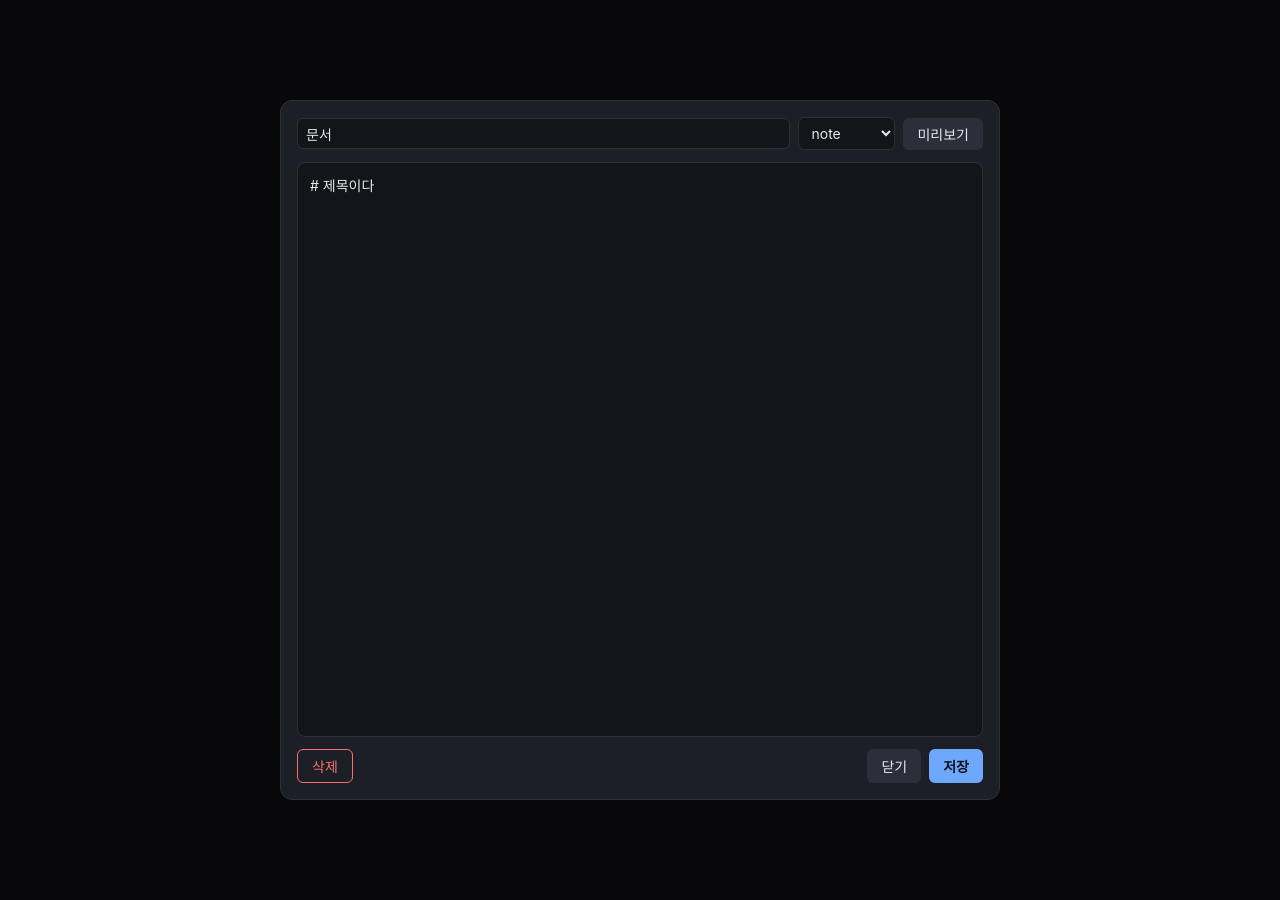
Test: 미리보기 토글은 마크다운을 렌더한다
Click the button "미리보기": (943, 134) [904,118,983,150]
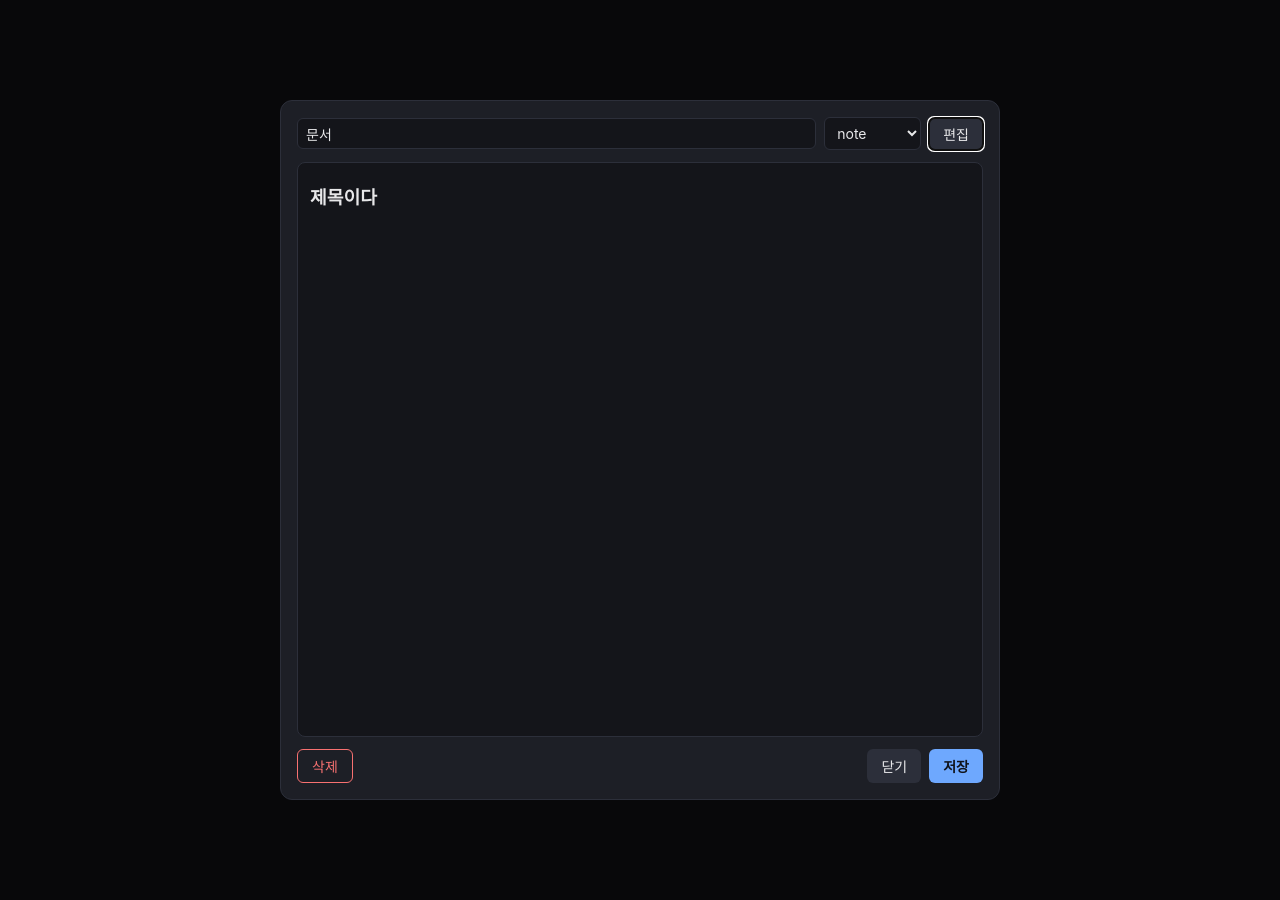
Result: the heading "제목이다" is shown at [310,186,377,208]
Click the button "편집": (956, 134) [929,118,983,150]
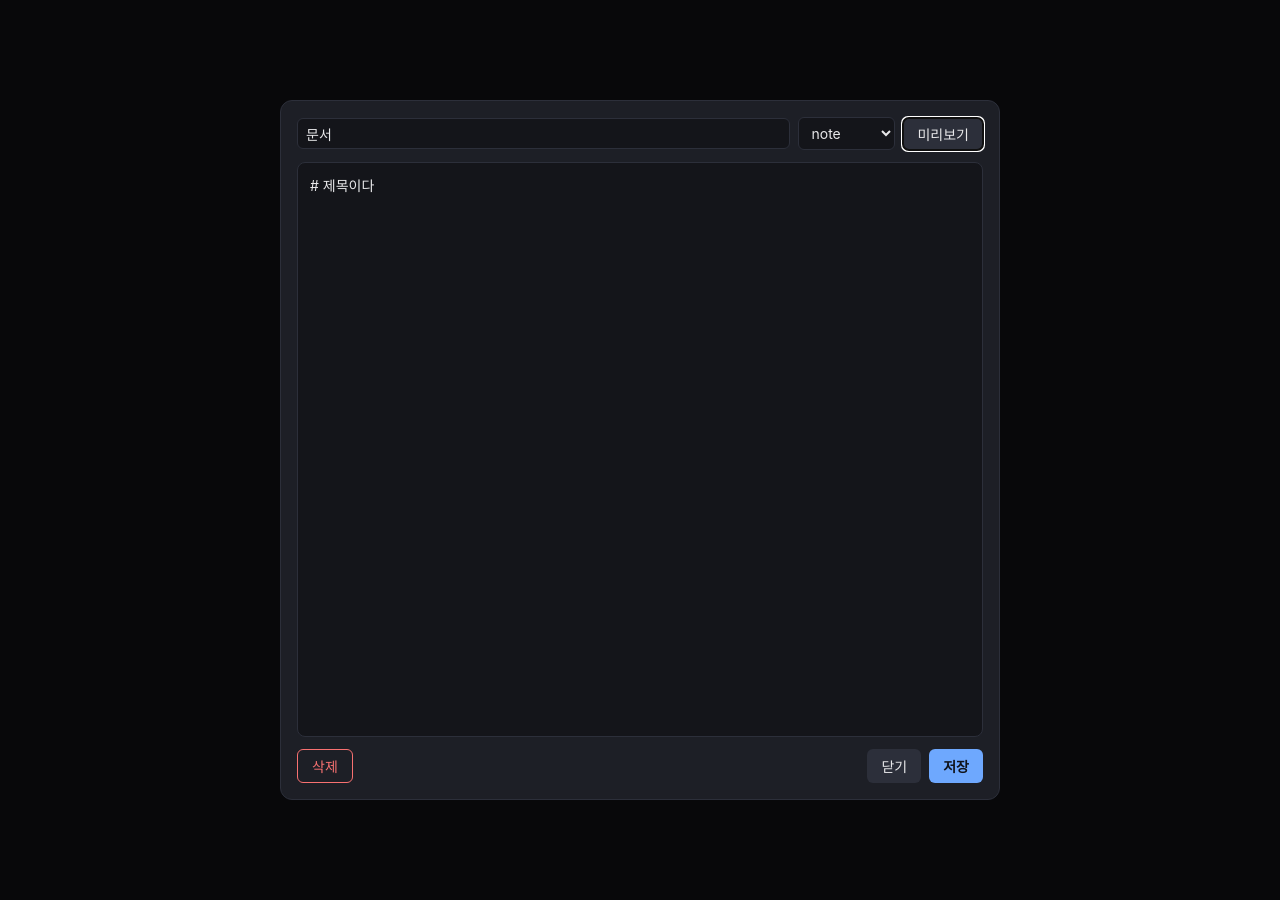
Result: the text box named "본문" holds "# 제목이다" at [297,162,983,737]
